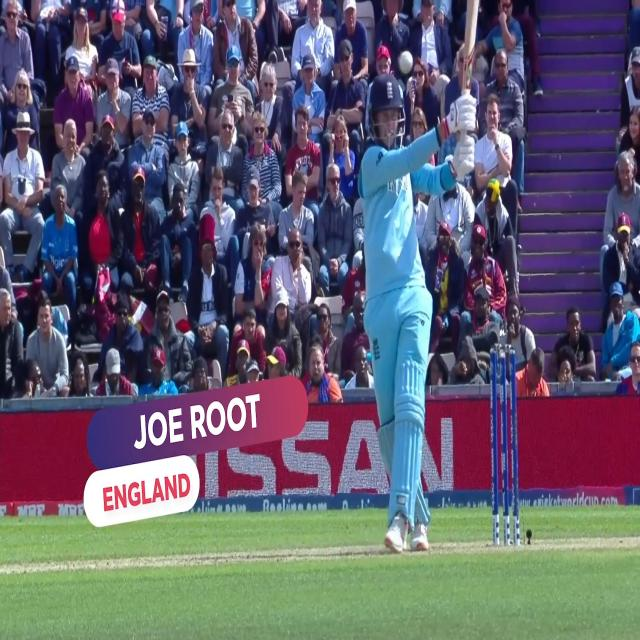ball: (397, 46, 416, 77)
